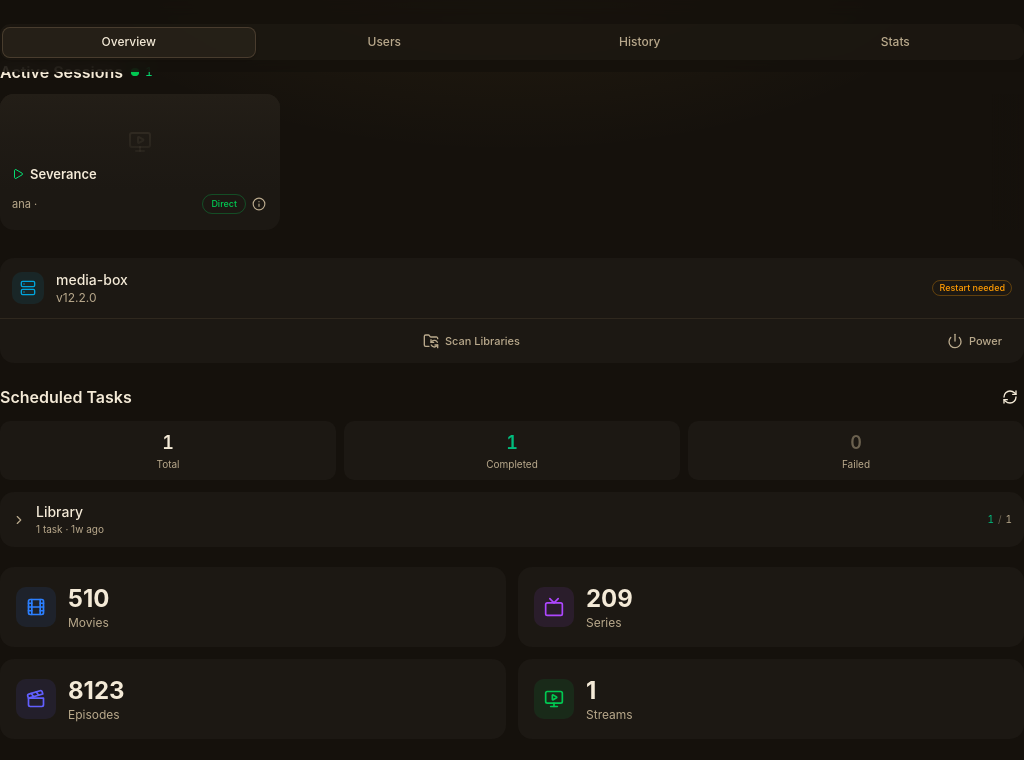
Test case: Jellyfin page (characterization) › shows the stats panels for the chosen range
This screenshot has width=1024, height=760.
Click the tab "Stats" at {"x": 895, "y": 42}, box [768,26,1022,58]
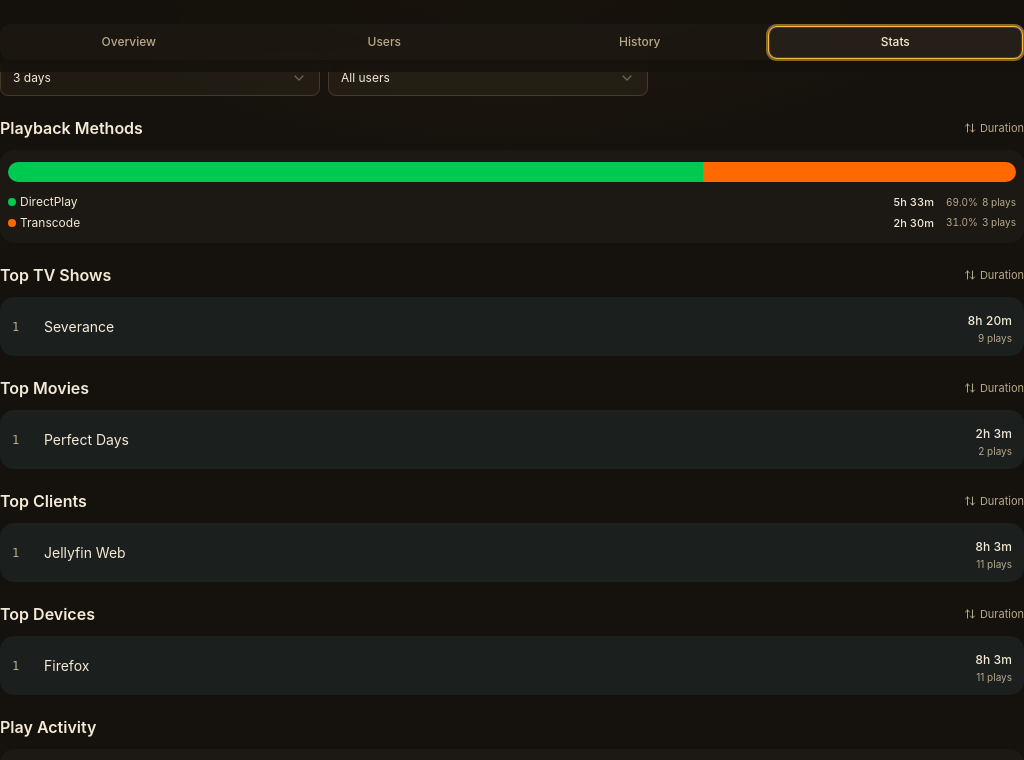
Result: the heading "Playback Methods" is shown at [0,116,143,140]
Result: the heading "Top TV Shows" is shown at [0,263,111,287]
Result: the heading "Top Movies" is shown at [0,376,89,400]
